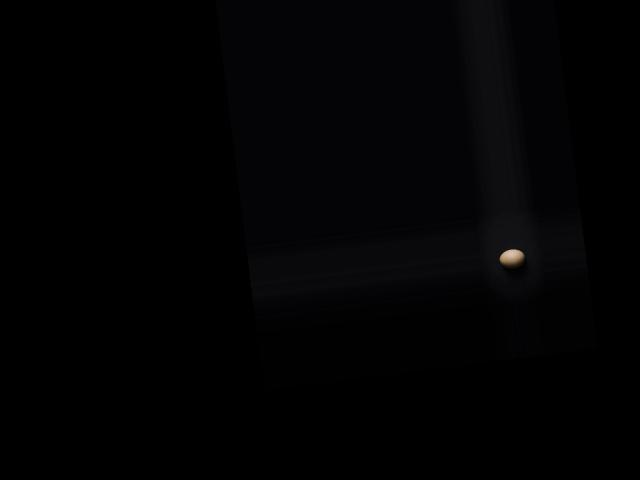egg: (497, 247, 526, 269)
